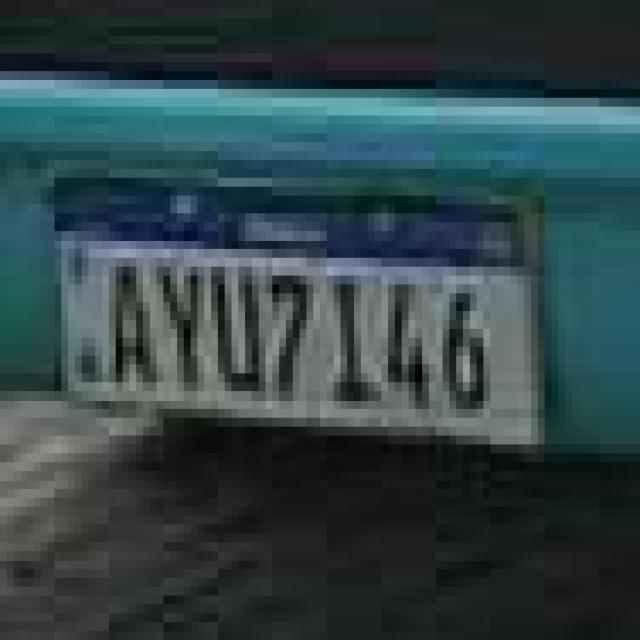4: (383, 269, 432, 421)
6: (438, 275, 491, 415)
7: (266, 264, 310, 398)
A: (105, 253, 158, 394)
I: (329, 264, 372, 408)
U: (211, 258, 266, 398)
Y: (156, 250, 208, 395)
